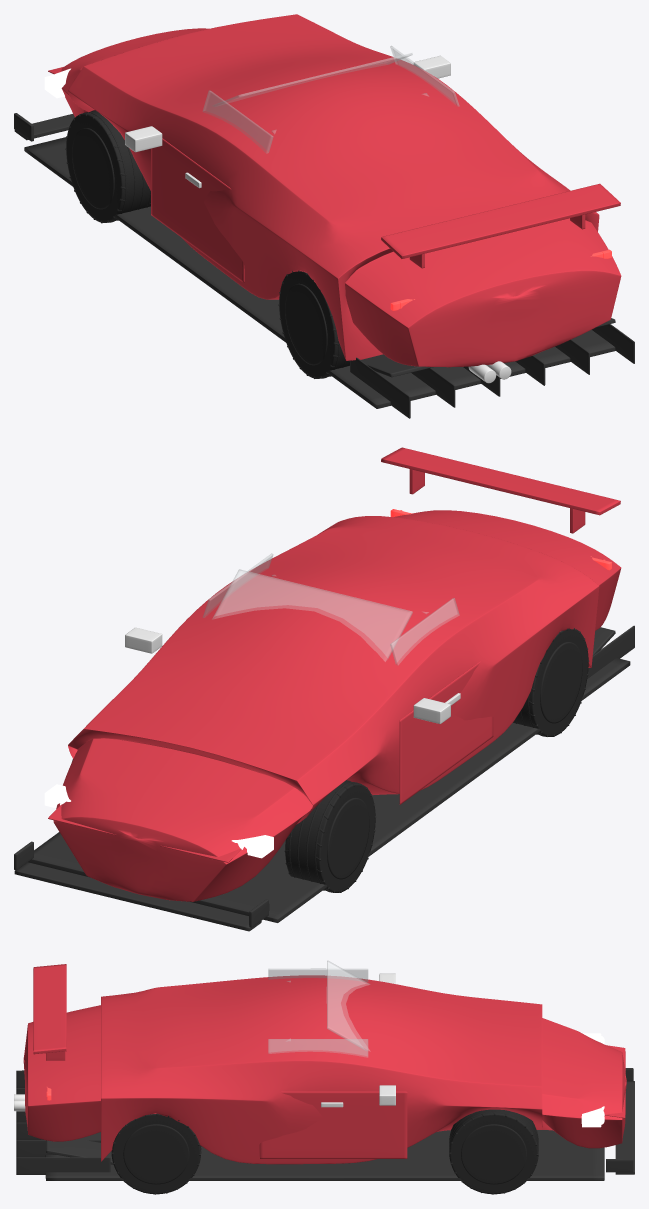
The model's file is vehicle.glb.
The picture shows the model from 3 angles, top to bottom: view 1: azimuth 30°, elevation 25°; view 2: azimuth 150°, elevation 25°; view 3: azimuth 270°, elevation 25°; orthographic projection. The views are drawn at different scales.
Parts seen in each view (by area): view 1: BODY_MainShell, UNDERBODY_FlatFloor, AERO_RX7_PedestalWing, WHEEL_FL_Tire, BODY_Door_FL, WHEEL_RL_Tire, GLASS_Greenhouse, JEWELRY_Hardware, AERO_FrontSplitter, JEWELRY_RX7_DualExhaust; view 2: BODY_MainShell, UNDERBODY_FlatFloor, GLASS_Greenhouse, WHEEL_FL_Tire, BODY_Door_FL, AERO_RX7_PedestalWing, WHEEL_RL_Tire, AERO_FrontSplitter, JEWELRY_Hardware, LIGHTING_Headlamps; view 3: BODY_MainShell, UNDERBODY_FlatFloor, BODY_Door_FR, WHEEL_FR_Tire, WHEEL_RR_Tire, GLASS_Greenhouse, AERO_RX7_PedestalWing, AERO_FrontSplitter, JEWELRY_Hardware, LIGHTING_Headlamps.
Boxes of the visible parts, x1,y1,x2,y2 form: BODY_MainShell: (61, 14, 621, 367); UNDERBODY_FlatFloor: (24, 137, 634, 418); AERO_RX7_PedestalWing: (381, 183, 620, 268); WHEEL_FL_Tire: (65, 110, 150, 223); BODY_Door_FL: (151, 138, 244, 282); WHEEL_RL_Tire: (278, 270, 349, 378); GLASS_Greenhouse: (203, 46, 459, 153); JEWELRY_Hardware: (125, 55, 450, 188); AERO_FrontSplitter: (14, 113, 74, 141); JEWELRY_RX7_DualExhaust: (468, 361, 511, 383); BODY_MainShell: (53, 510, 621, 901); UNDERBODY_FlatFloor: (28, 625, 634, 922); GLASS_Greenhouse: (203, 553, 459, 665); WHEEL_FL_Tire: (284, 780, 376, 892); BODY_Door_FL: (399, 661, 493, 804); AERO_RX7_PedestalWing: (381, 447, 620, 533); WHEEL_RL_Tire: (513, 628, 589, 736); AERO_FrontSplitter: (14, 841, 269, 931); JEWELRY_Hardware: (125, 627, 460, 723); LIGHTING_Headlamps: (44, 784, 273, 858); BODY_MainShell: (23, 975, 626, 1164); UNDERBODY_FlatFloor: (16, 1070, 604, 1180); BODY_Door_FR: (259, 1091, 407, 1158); WHEEL_FR_Tire: (449, 1109, 538, 1194); WHEEL_RR_Tire: (111, 1113, 201, 1194); GLASS_Greenhouse: (268, 960, 369, 1057); AERO_RX7_PedestalWing: (33, 964, 66, 1060); AERO_FrontSplitter: (606, 1068, 634, 1174); JEWELRY_Hardware: (321, 973, 395, 1107); LIGHTING_Headlamps: (581, 1033, 604, 1127).
Size of what is drawn, in the model's own units: 2.08 by 1.21 by 4.47.
